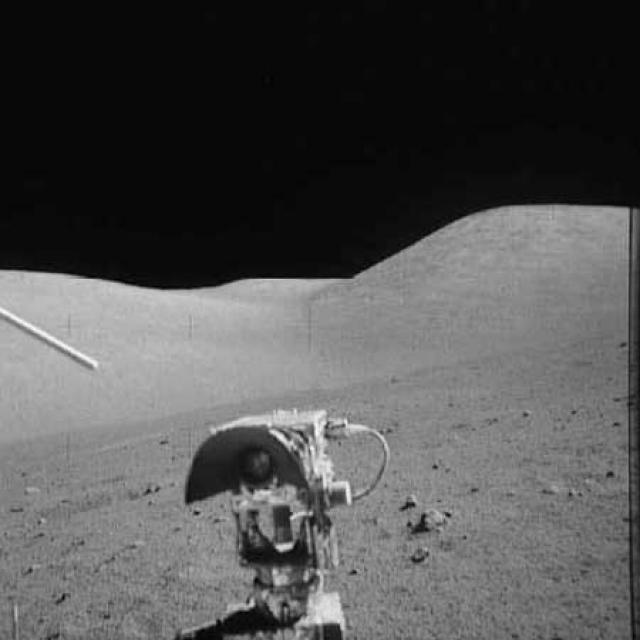artifact: (171, 412, 396, 638), (0, 302, 105, 391)
rock: (418, 507, 450, 534), (404, 542, 437, 564), (402, 490, 420, 504)
